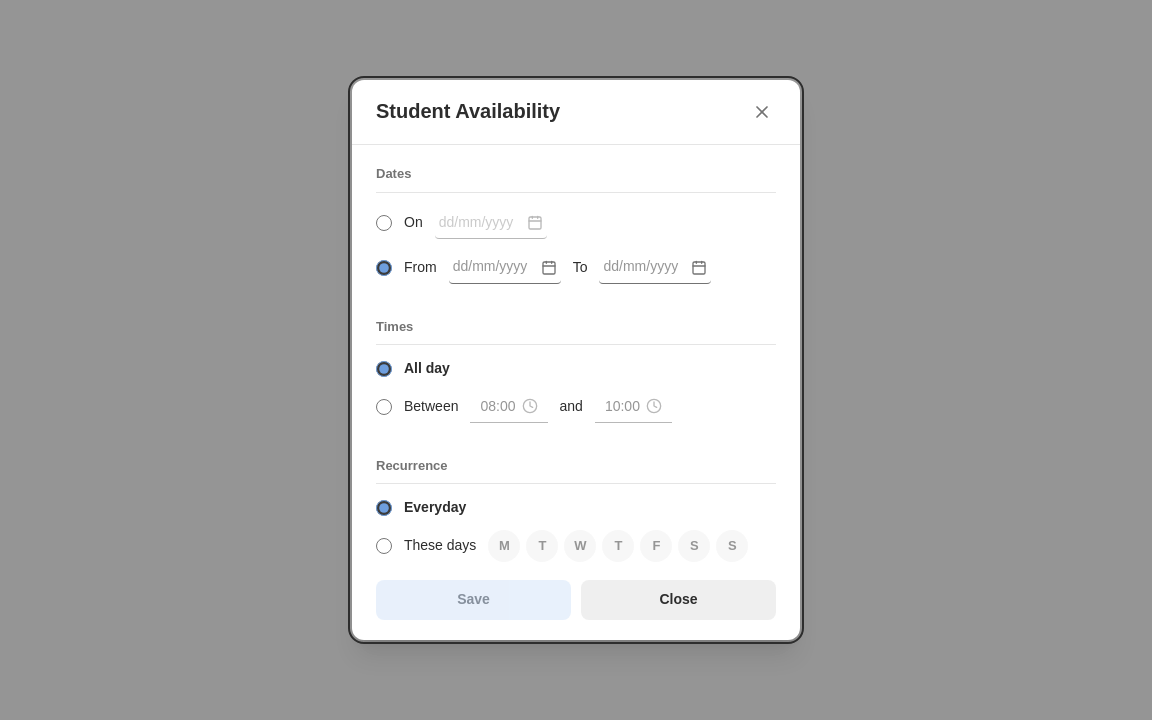
Test: AvailabilityFormModal › selects the "From" radio when opening its calendar picker, without clicking the radio first
Click the radio button labelled "On" at [384, 223], box [376,215,392,231]
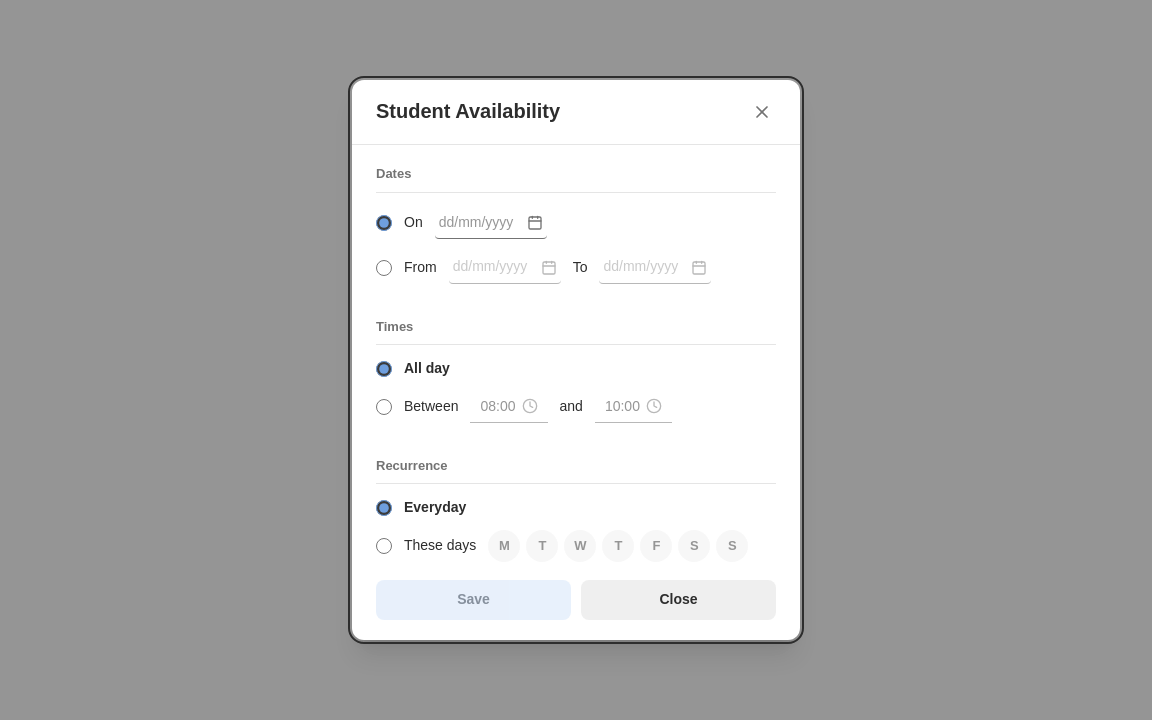
Result: the radio button labelled "From To" is not checked at [376,260,392,276]
Click the button named "Open calendar for From date" at [549, 268], box [541,260,557,276]
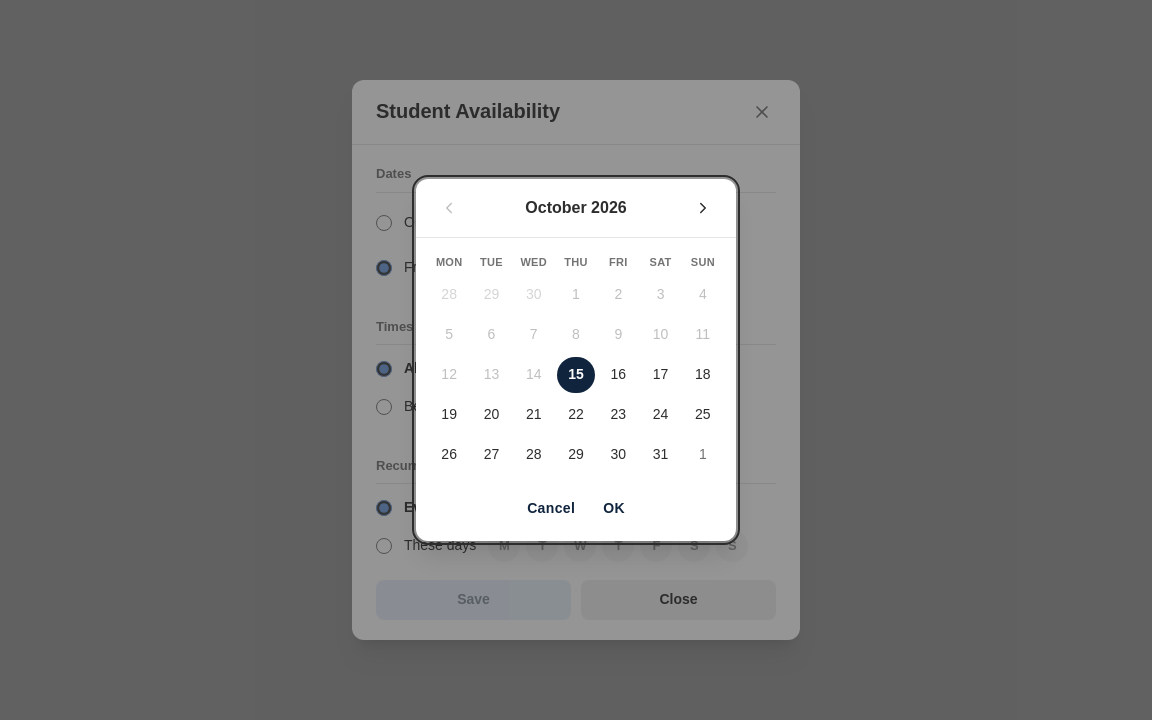
Result: the radio button labelled "From To" is checked at [376,260,392,276]
Result: the dialog named "Select date" is shown at [416,180,736,541]
